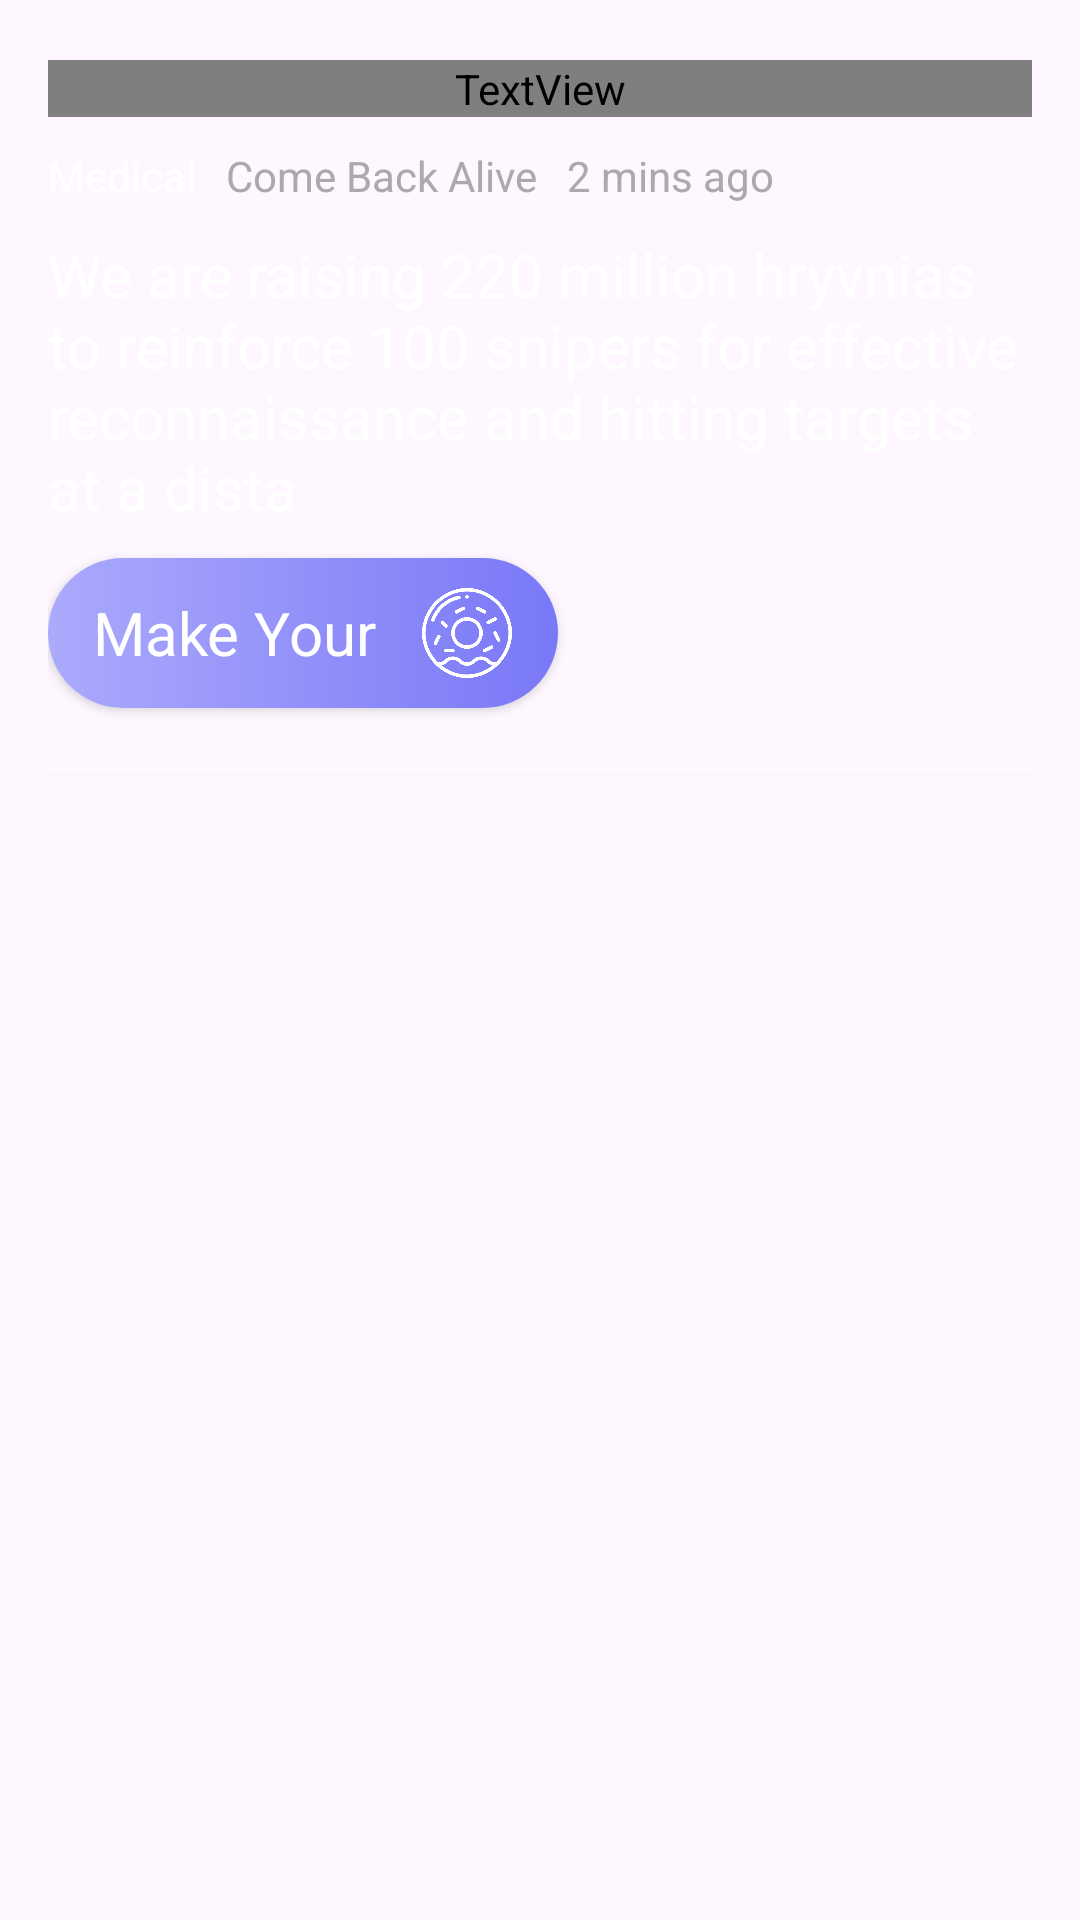

Where icons sit on this 1080w x 1920h app screen, as (x1,y1,x2,y2):
donut: (422,588,512,678)
